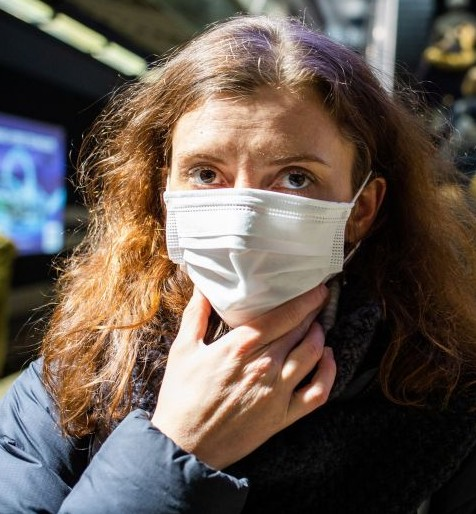with_mask: (147, 57, 398, 337)
